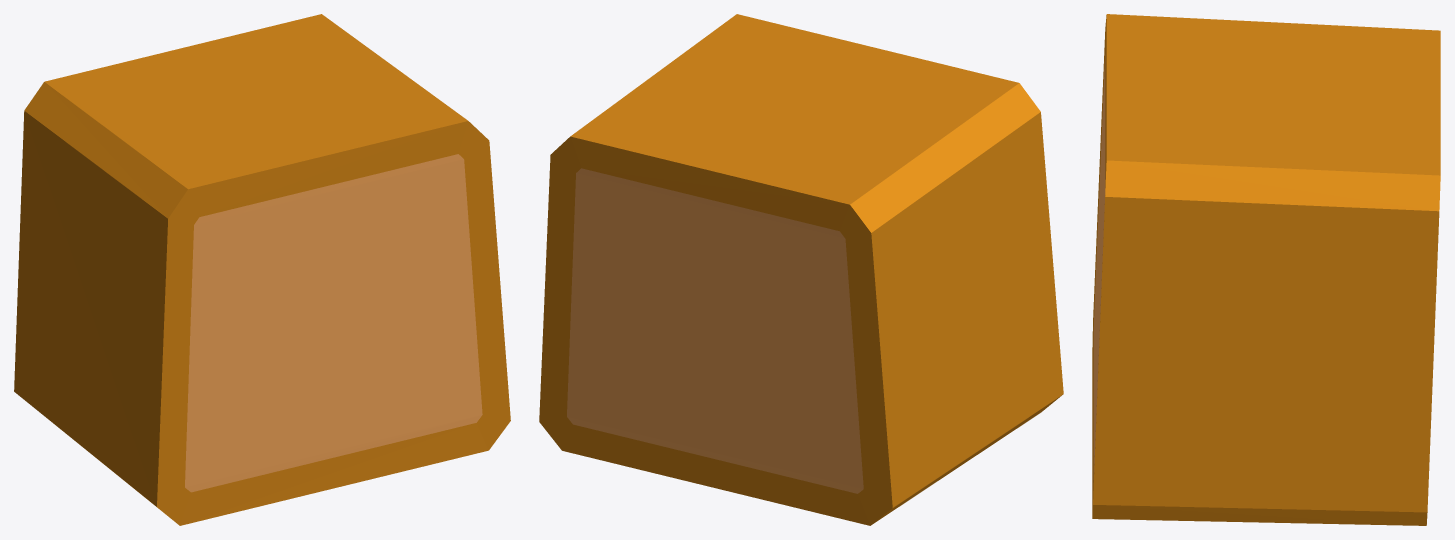
File: Banaan_Stuk1.FBX
The picture shows the model from 3 angles, left to right: view 1: azimuth 30°, elevation 25°; view 2: azimuth 150°, elevation 25°; view 3: azimuth 270°, elevation 25°; orthographic projection. The views are drawn at different scales.
Visible parts, largest first — view 1: Banaan_stuk3; view 2: Banaan_stuk3; view 3: Banaan_stuk3.
Part boxes in pixels (<box>): Banaan_stuk3: <box>14,14,510,525</box>; Banaan_stuk3: <box>539,14,1063,525</box>; Banaan_stuk3: <box>1092,14,1440,525</box>.
Size of the model in its own units: 901 by 697 by 779.
